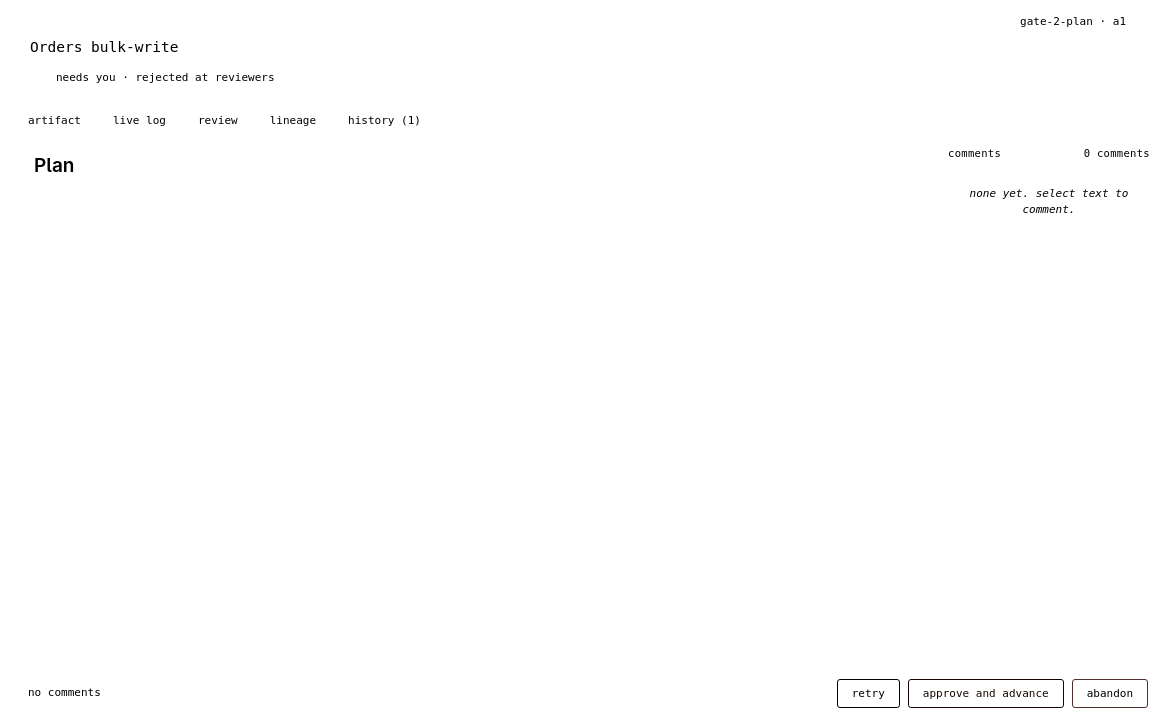
Test case: CardDrawer › lists invocations in the history panel with usage + outcome
Click the tab "history (1)" at (385, 120), box [332,105,437,136]
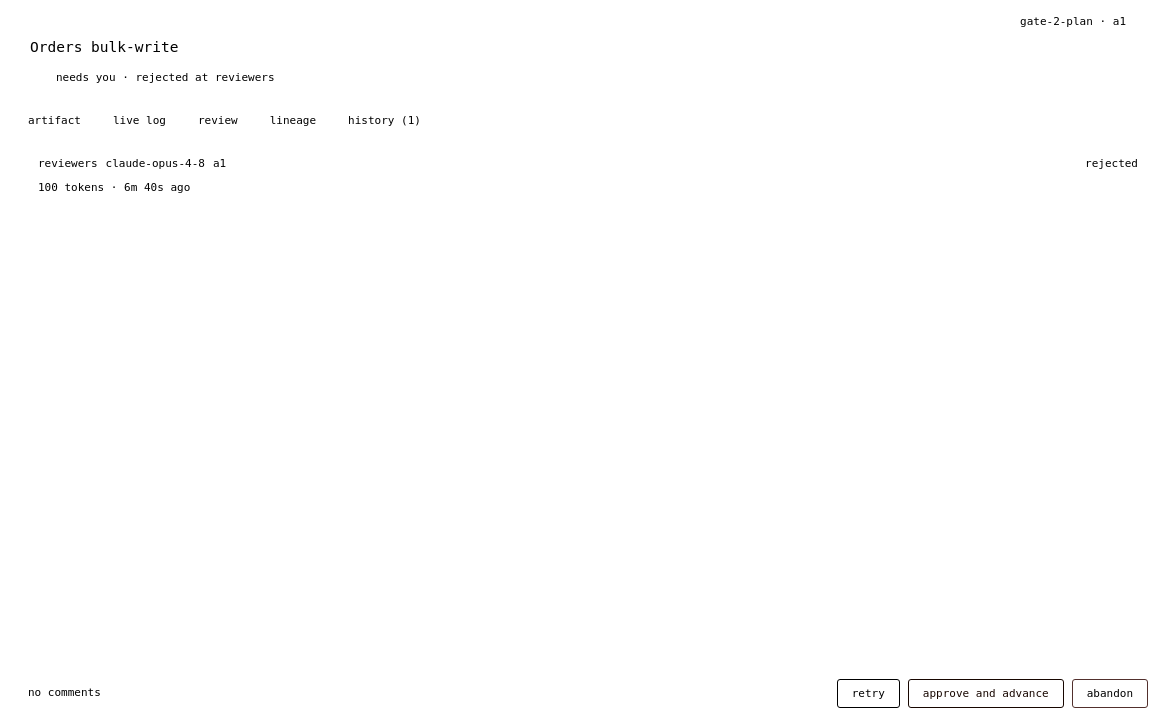
Result: the text "reviewers" is shown at [38,156,98,172]
Result: the text "rejected" is shown at [1085,156,1138,172]
Result: the text "100 tokens · 6m 40s ago" is shown at [38,181,190,194]
